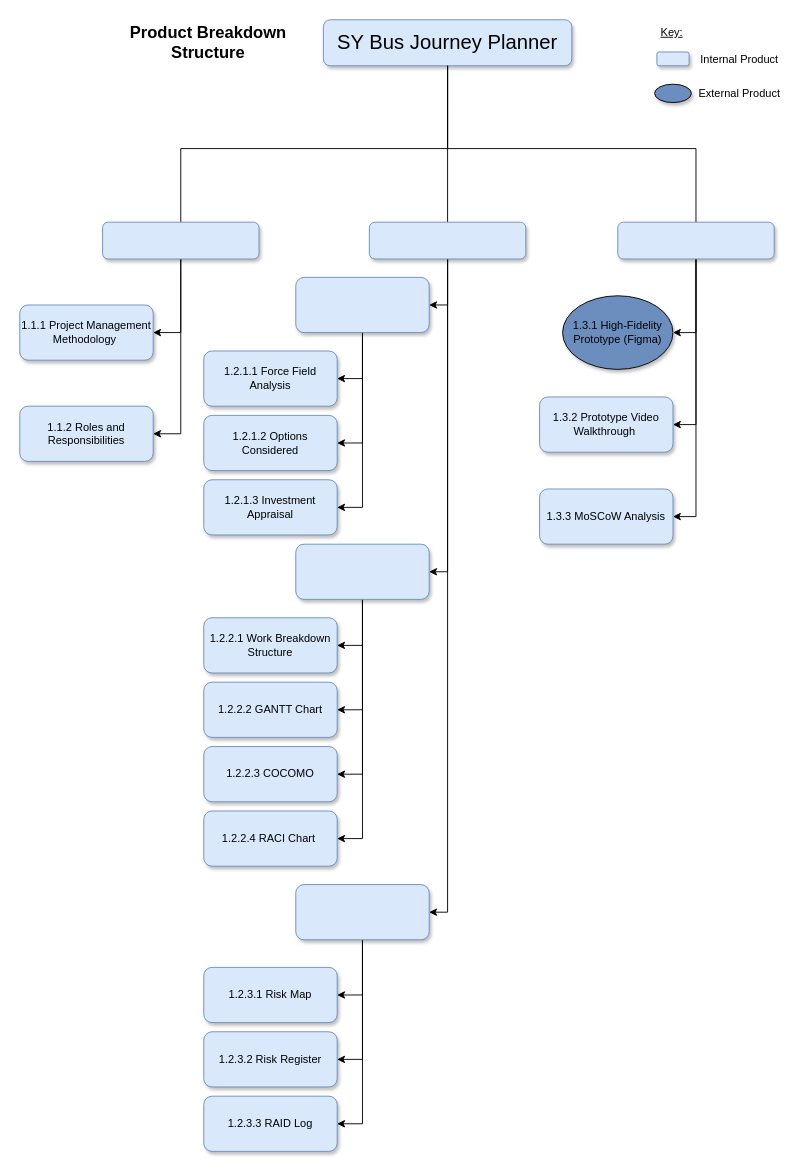
Image size: 799x1174. Some labels were removed from this diagram. The shapes that lost their labels are listed below. From the top down, each one's centre as x and y in pixels, then its label:
At point (181, 241): "1.1 Project Initiation Document".
At point (448, 241): "1.2 Project Management Artefacts".
At point (696, 241): "1.3 Envisioned Solution".
At point (363, 306): "1.2.1 Business Case".
At point (363, 573): "1.2.2 Project Plan".
At point (363, 913): "1.2.3 Risk Management Plan".
